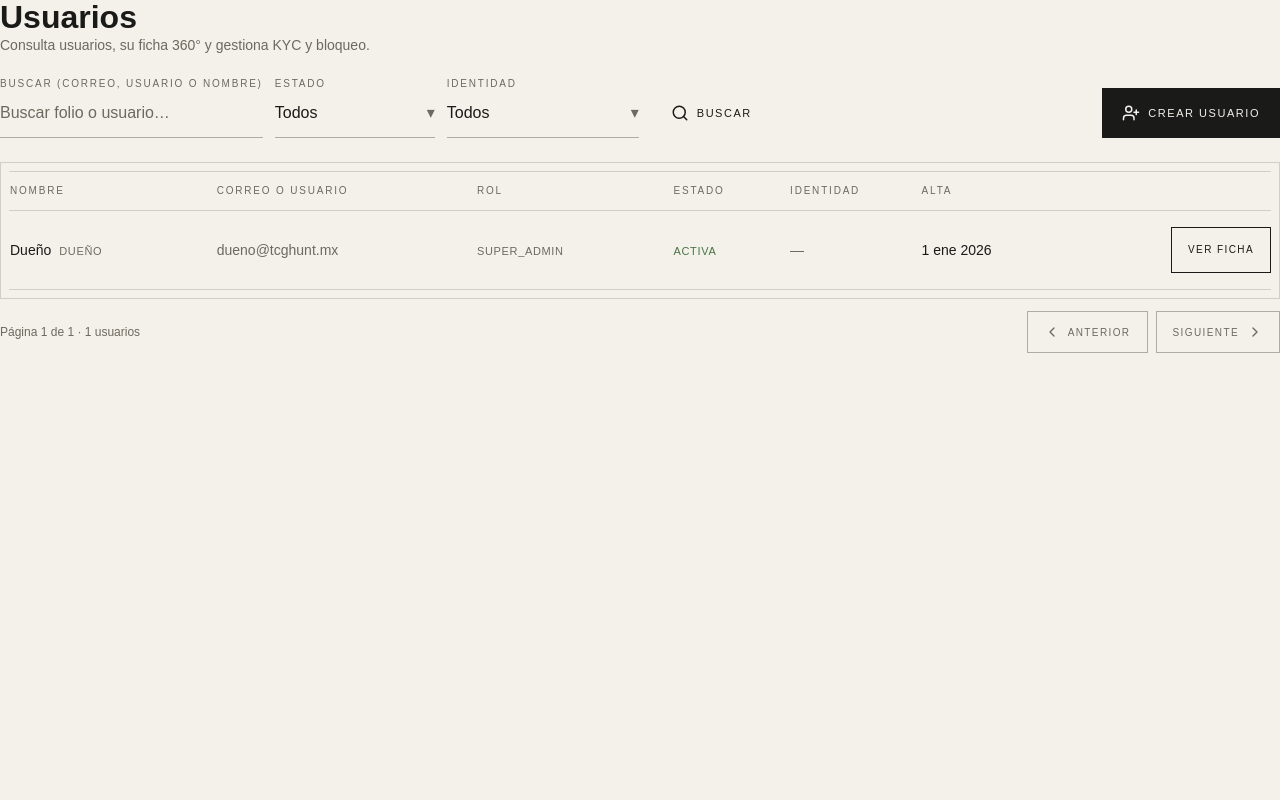
Test: PS-164 · la cuenta del dueño en Usuarios › un no dueño abre la ficha del dueño ⇒ sin «Restablecer contraseña», «Bloquear» ni «Eliminar usuario», con la frase
The width and height of the screenshot is (1280, 800).
Click the button "Ver ficha". click: (1221, 250)
box: [1171,227,1271,273]
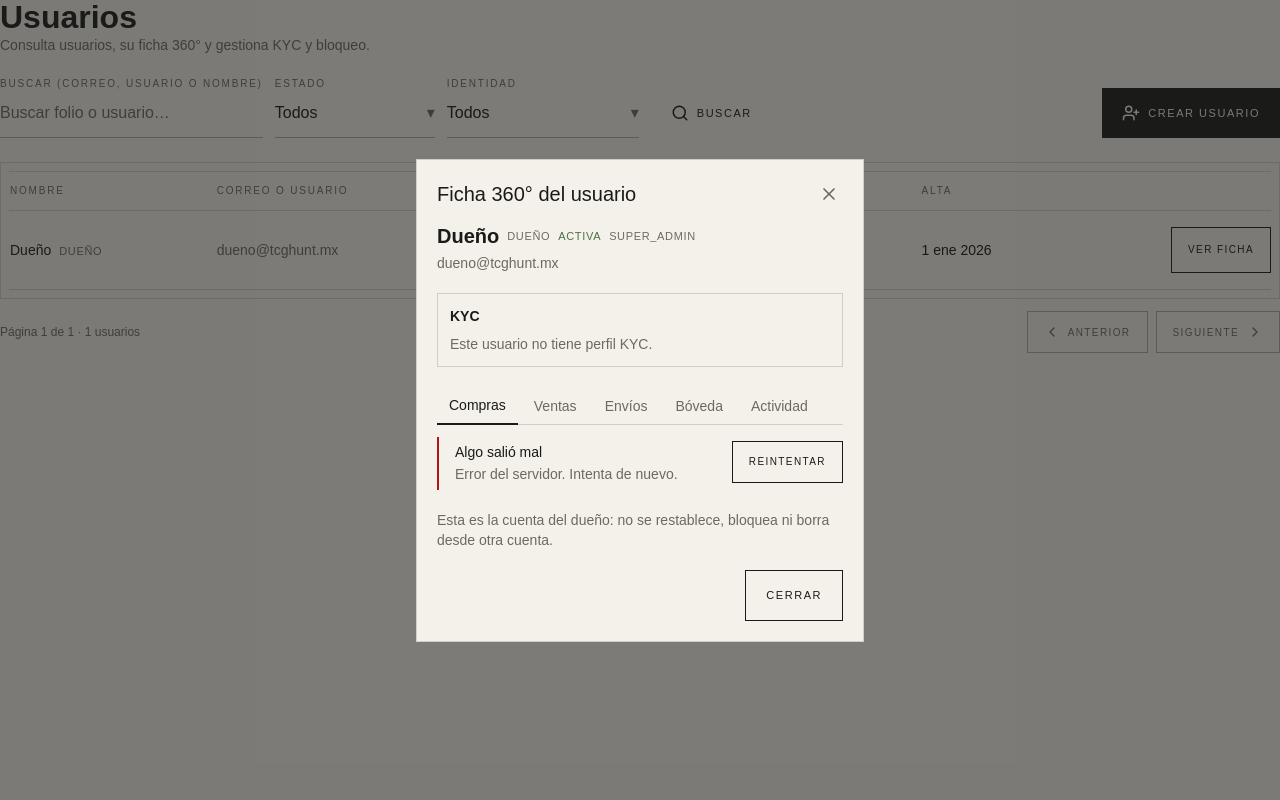
Expected: the text with test id "m6-owner-account" shows "Esta es la cuenta del dueño: no se restablece, bloquea ni borra desde otra cuenta.", [437,512,829,548]
